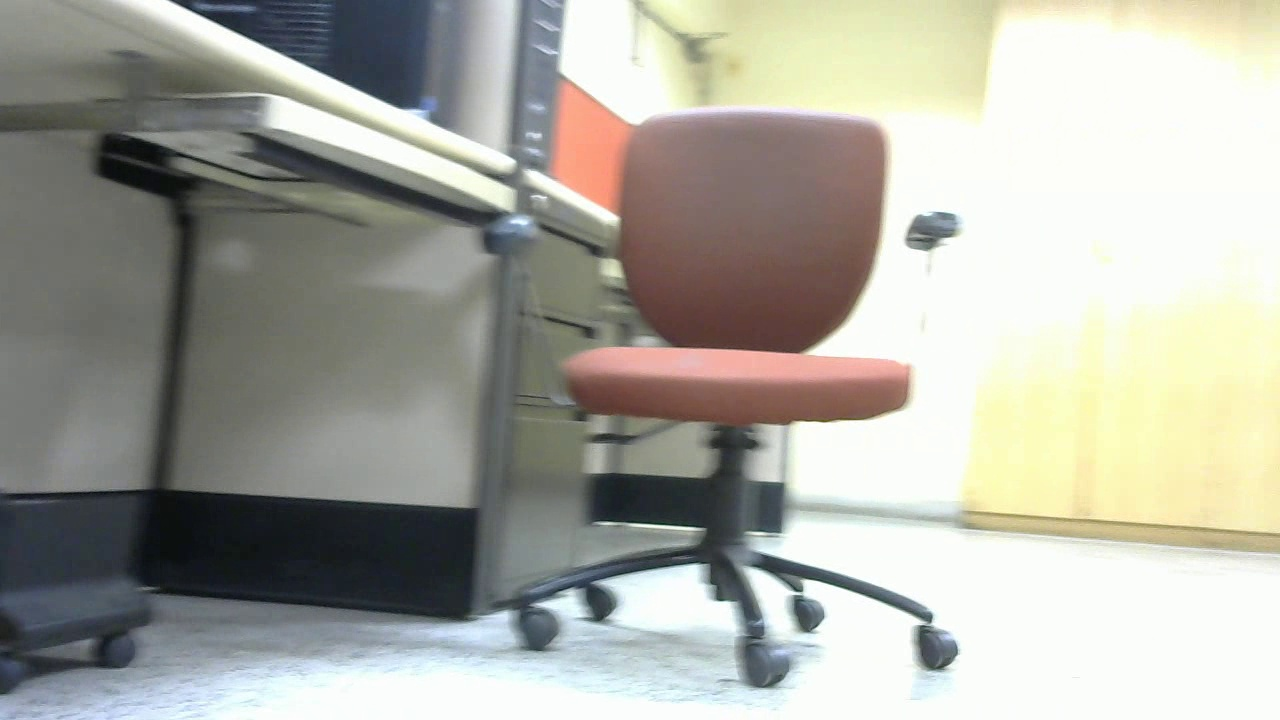chair: (404, 215, 650, 529), (29, 163, 218, 499)
